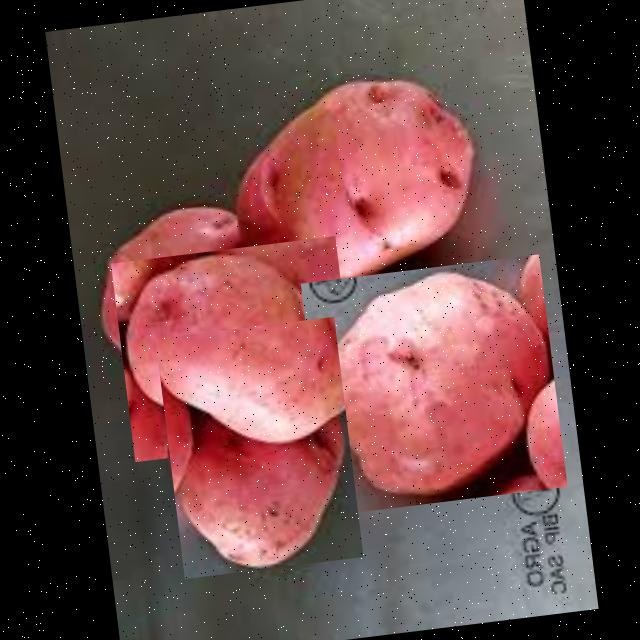Defected potato: (212, 63, 494, 320), (299, 254, 566, 516), (110, 236, 358, 462), (154, 316, 362, 578)
